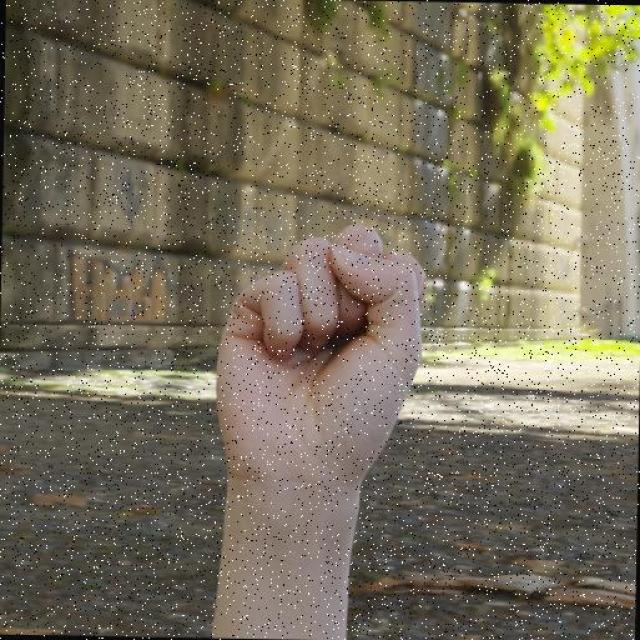S: (206, 217, 436, 487)
